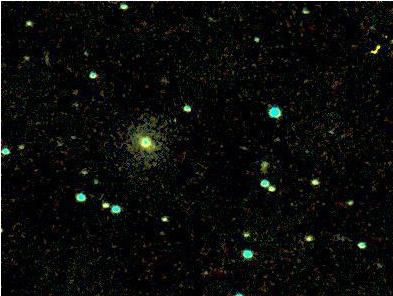star: (159, 104, 189, 134)
